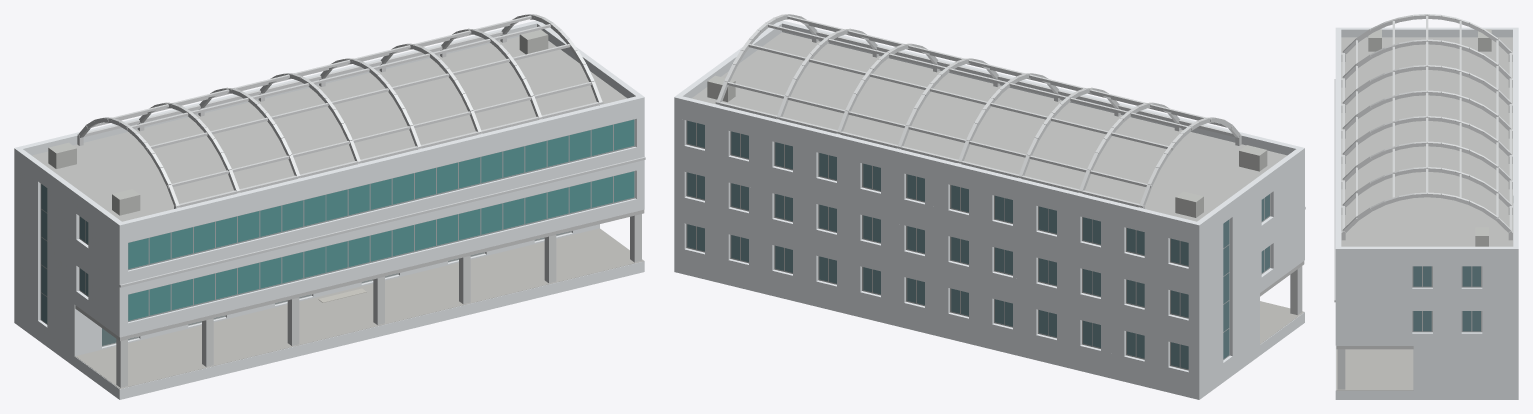
3 renders of one model, left to right at view 1: azimuth 30°, elevation 25°; view 2: azimuth 150°, elevation 25°; view 3: azimuth 270°, elevation 25°, orthographic. The views are drawn at different scales.
Visible parts, largest first — view 1: w451562728__panel-wall, w451562728__roof, w451562728__cw-glass, w451562728__paving-slab, w451562728__steel-white, w451562728__cw-frame, w451562728__column, w451562728__soffit, w451562728__trim, w451562728__ac, w451562728__glass, w451562728__frame; view 2: w451562728__panel-wall, w451562728__roof, w451562728__steel-white, w451562728__glass, w451562728__frame, w451562728__ac, w451562728__paving-slab, w451562728__column; view 3: w451562728__roof, w451562728__panel-wall, w451562728__steel-white, w451562728__paving-slab, w451562728__glass, w451562728__ac, w451562728__frame, w451562728__trim, w451562728__column, w451562728__soffit.
Boxes of the visible parts, bbox=[...] form: w451562728__panel-wall: bbox=[14, 20, 644, 399]; w451562728__roof: bbox=[32, 36, 626, 221]; w451562728__cw-glass: bbox=[128, 119, 634, 320]; w451562728__paving-slab: bbox=[75, 228, 643, 388]; w451562728__steel-white: bbox=[77, 14, 603, 208]; w451562728__cw-frame: bbox=[128, 119, 635, 321]; w451562728__column: bbox=[116, 214, 641, 387]; w451562728__soffit: bbox=[75, 209, 644, 340]; w451562728__trim: bbox=[119, 157, 645, 287]; w451562728__ac: bbox=[48, 29, 548, 215]; w451562728__glass: bbox=[41, 184, 88, 323]; w451562728__frame: bbox=[40, 183, 571, 346]; w451562728__panel-wall: bbox=[674, 20, 1304, 399]; w451562728__roof: bbox=[692, 32, 1287, 221]; w451562728__steel-white: bbox=[715, 14, 1241, 208]; w451562728__glass: bbox=[687, 120, 1269, 369]; w451562728__frame: bbox=[686, 120, 1270, 370]; w451562728__ac: bbox=[707, 75, 1267, 217]; w451562728__paving-slab: bbox=[1260, 301, 1303, 344]; w451562728__column: bbox=[1290, 266, 1302, 315]; w451562728__roof: bbox=[1341, 37, 1513, 246]; w451562728__panel-wall: bbox=[1335, 27, 1518, 399]; w451562728__steel-white: bbox=[1341, 14, 1512, 240]; w451562728__paving-slab: bbox=[1336, 349, 1413, 390]; w451562728__glass: bbox=[1413, 266, 1480, 331]; w451562728__ac: bbox=[1368, 29, 1491, 246]; w451562728__frame: bbox=[1412, 266, 1482, 332]; w451562728__trim: bbox=[1334, 79, 1335, 302]; w451562728__column: bbox=[1337, 349, 1345, 389]; w451562728__soffit: bbox=[1336, 346, 1413, 349].
Size of the model in its own units: 38.24 by 15.29 by 13.45.
